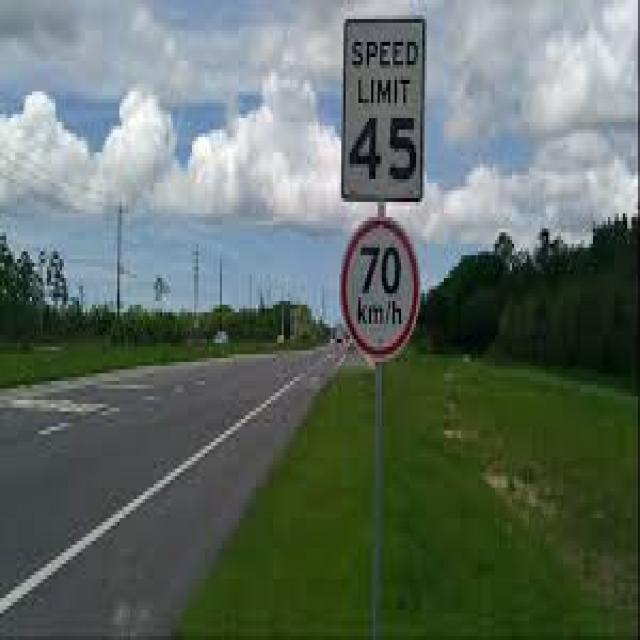speedLimit45: (337, 15, 431, 206)
